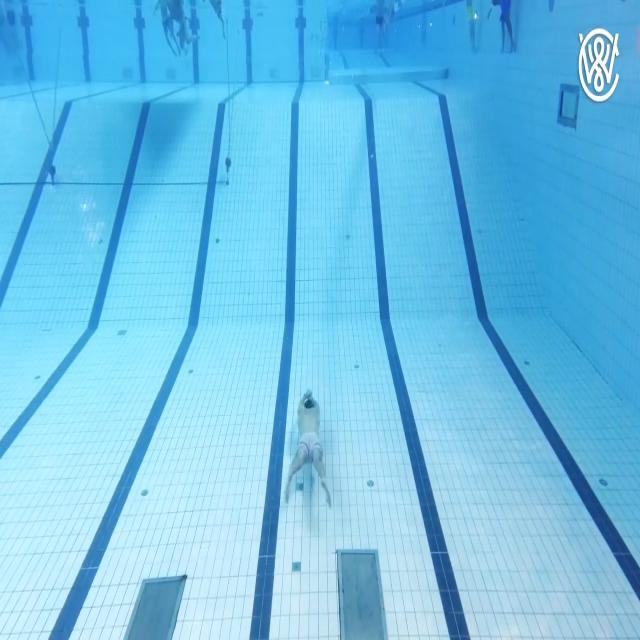Swimming: (283, 387, 333, 511)
